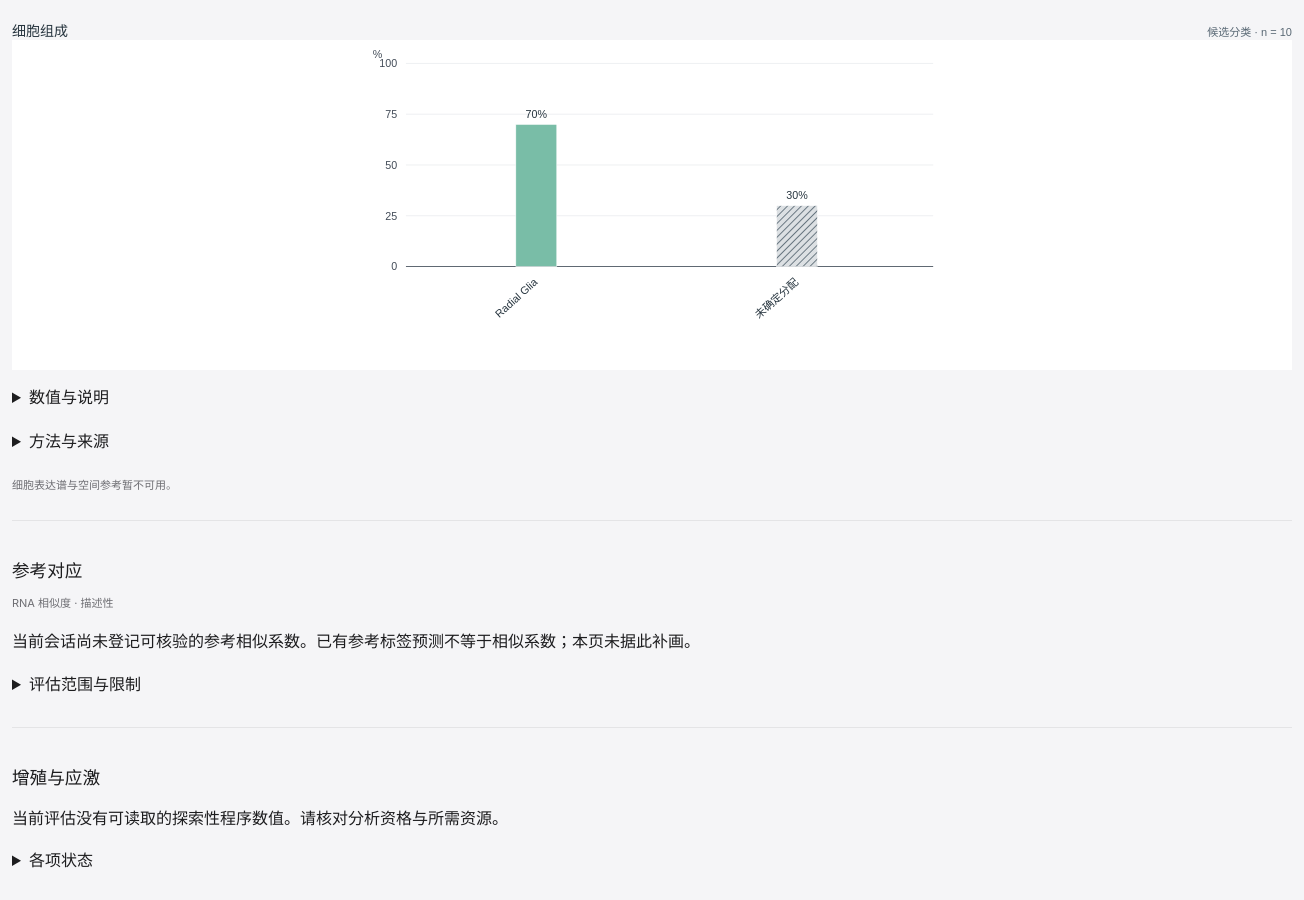
Test case: keeps unknown categories, denominators and missing proportions distinct
Expected: the picture "Radial Glia: 70%, 7 / 10" is shown, [493, 108, 547, 320]
Expected: the picture "未确定分配: 30%, 3 / 10" is shown, [752, 189, 808, 320]
Click the heading "数值与说明": (69, 397) [29, 387, 109, 407]
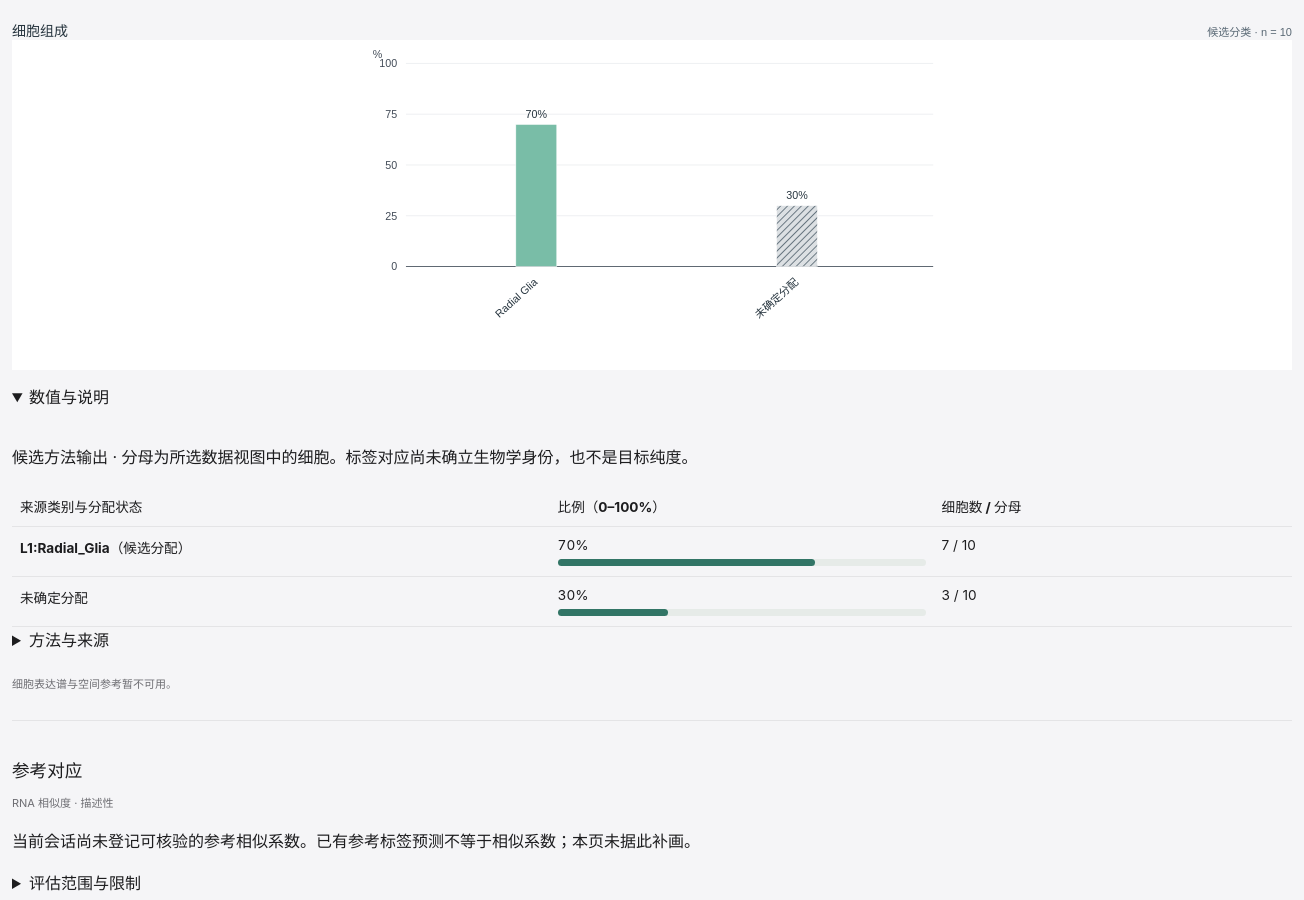
Expected: the text "当前会话尚未登记可核验的参考相似系数。已有参考标签预测不等于相似系数；本页未据此补画。" is shown, [12, 831, 700, 851]
Expected: the cell "7 / 10" is shown, [934, 527, 1292, 577]
Expected: the column heading "未确定分配" is shown, [12, 577, 550, 627]
